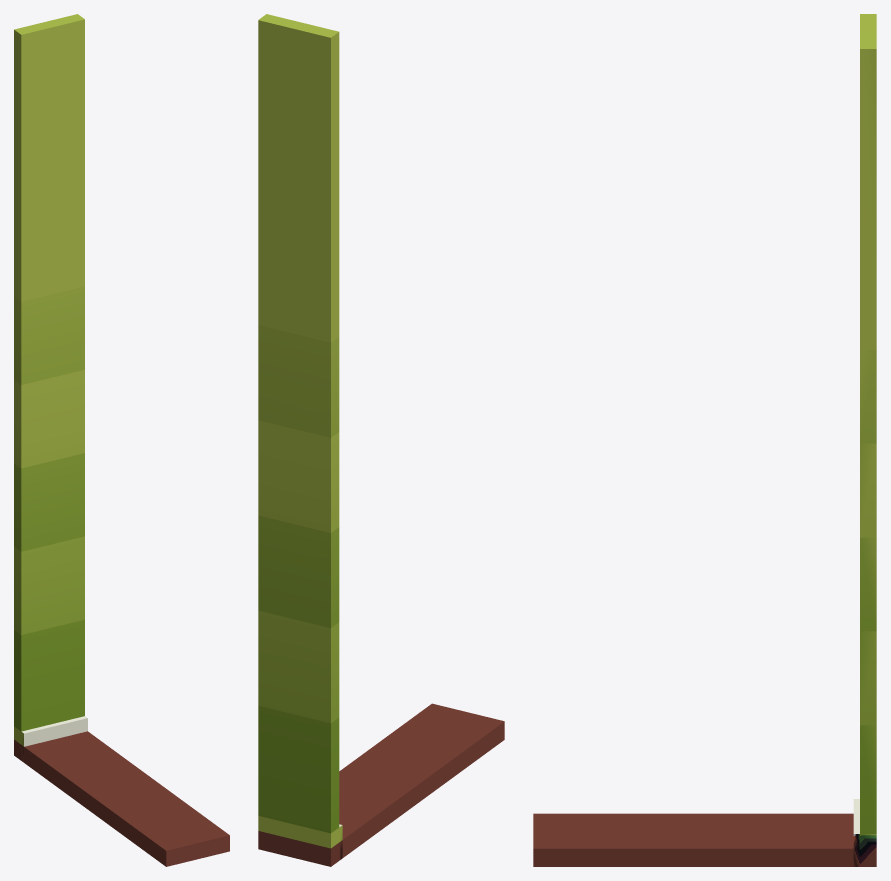
File: Base_AppartmentWall_Green.fbx
3 renders of one model, left to right at view 1: azimuth 30°, elevation 25°; view 2: azimuth 150°, elevation 25°; view 3: azimuth 270°, elevation 25°, orthographic. The views are drawn at different scales.
Parts seen in each view (by area): view 1: Room_Wall, Room_Ground; view 2: Room_Wall, Room_Ground; view 3: Room_Ground, Room_Wall.
Boxes of the visible parts, left/top/right/bottom form: Room_Wall: left=14, top=14, right=87, bottom=762; Room_Ground: left=24, top=731, right=229, bottom=866; Room_Wall: left=258, top=14, right=342, bottom=866; Room_Ground: left=339, top=703, right=504, bottom=857; Room_Ground: left=533, top=813, right=853, bottom=866; Room_Wall: left=853, top=14, right=876, bottom=866.
Size of the model in its own units: 92.28 by 1005 by 382.
